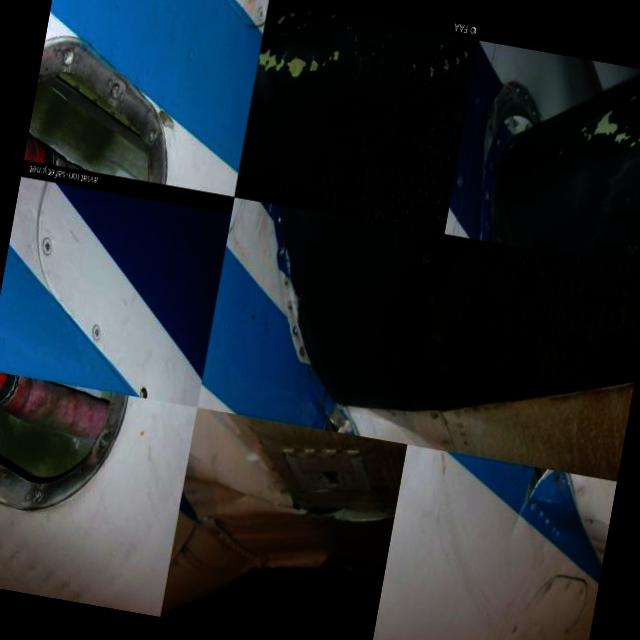crack: (507, 461, 555, 522)
